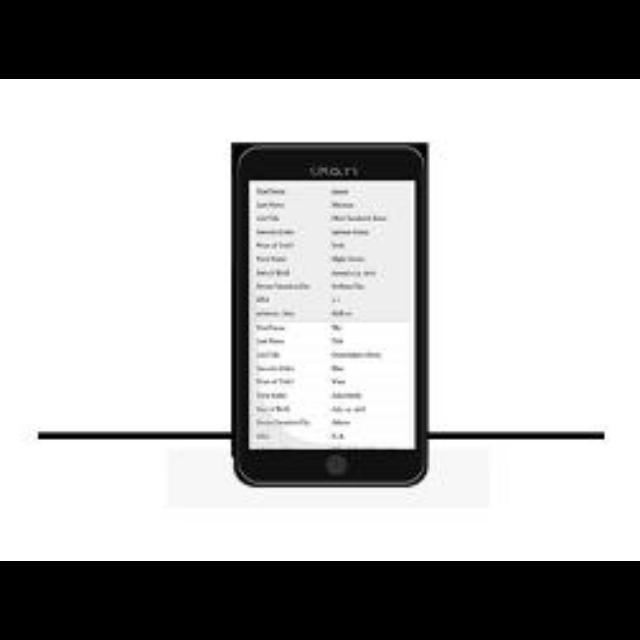fake: (232, 138, 429, 490)
